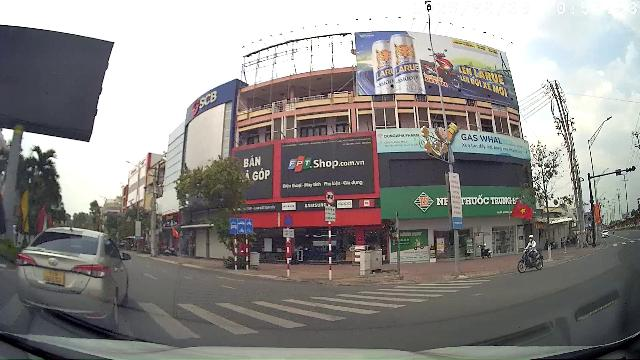130-cam-dung-va-do-xe: (284, 214, 294, 226)
